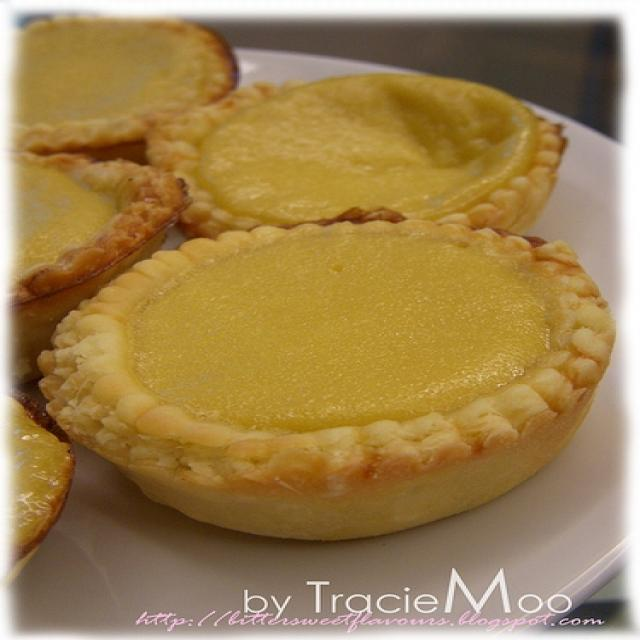炸货点心: (17, 16, 614, 618)
蛋糕甜品: (17, 16, 614, 618)
